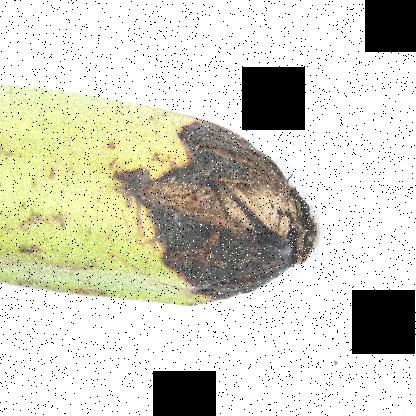rotten: (99, 99, 327, 331)
unripe: (0, 47, 133, 323)
